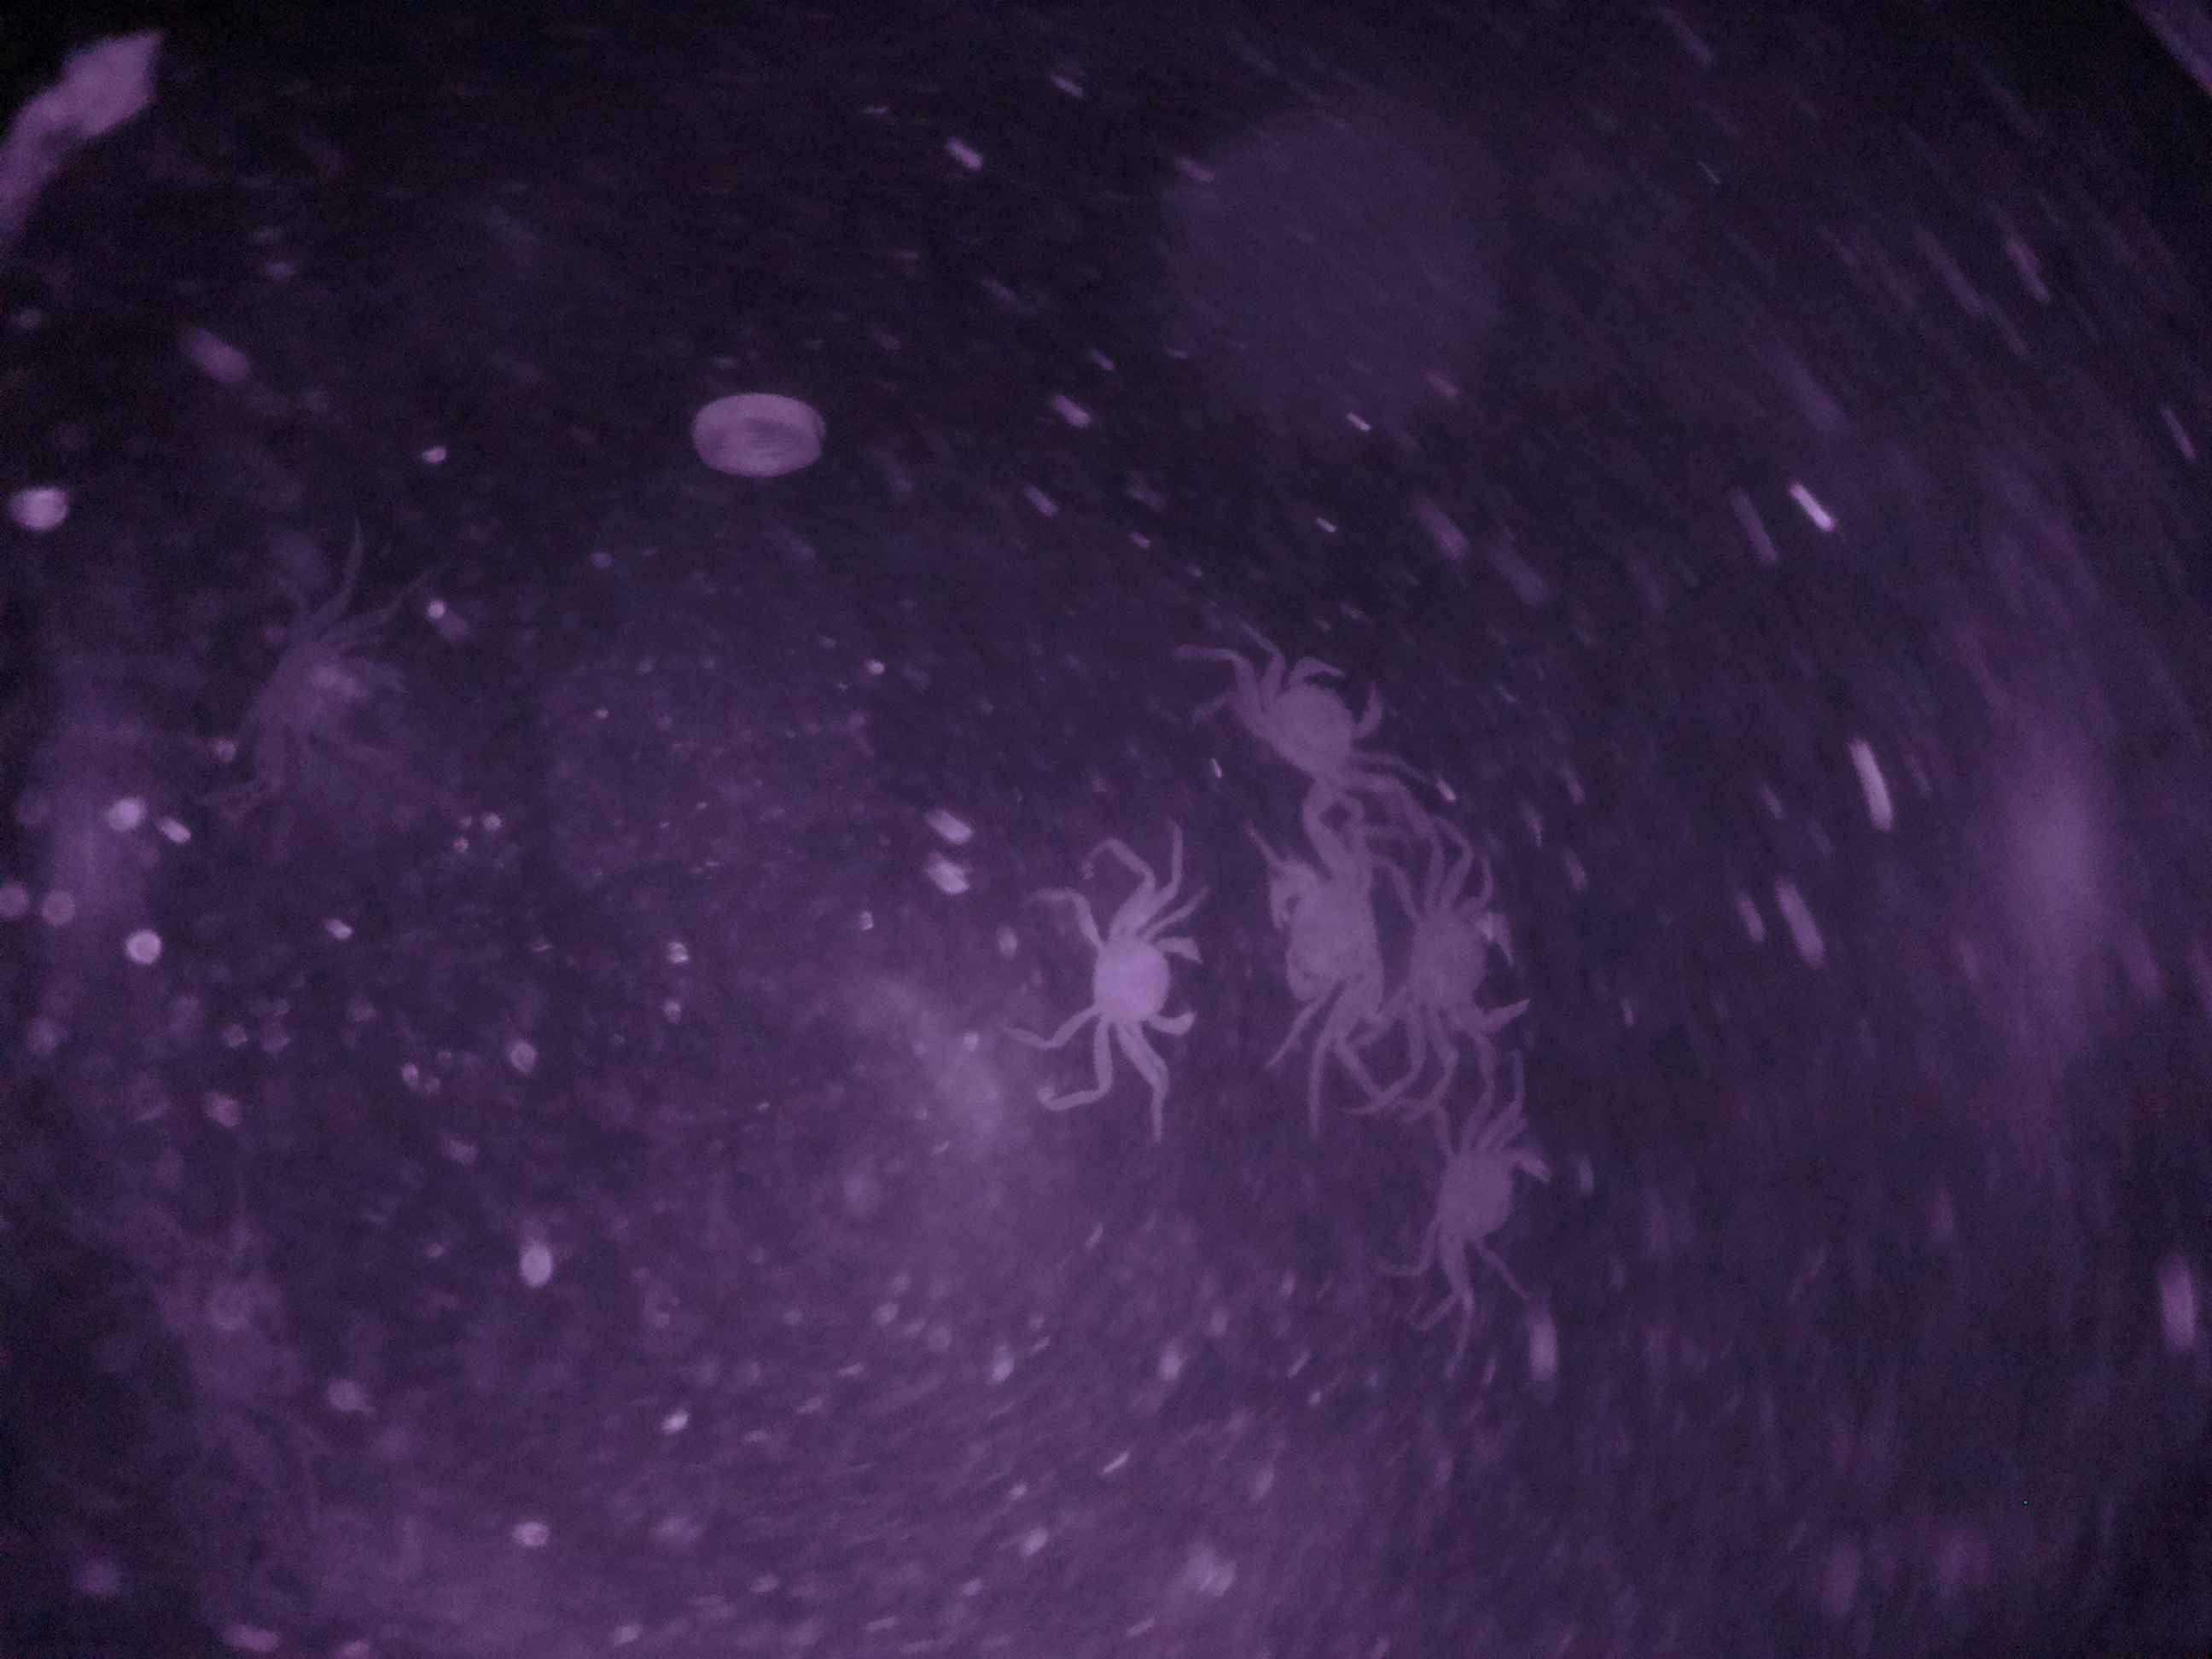Crab: (1390, 849, 1562, 1072), (1212, 622, 1404, 802), (1263, 810, 1399, 1056), (1064, 864, 1211, 1080), (1381, 1103, 1540, 1290)
